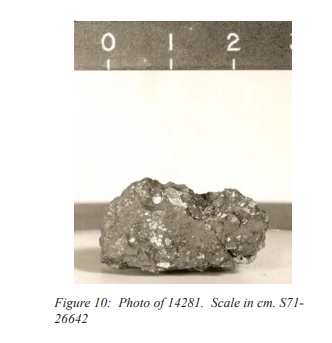Breccia: (107, 172, 272, 273)
